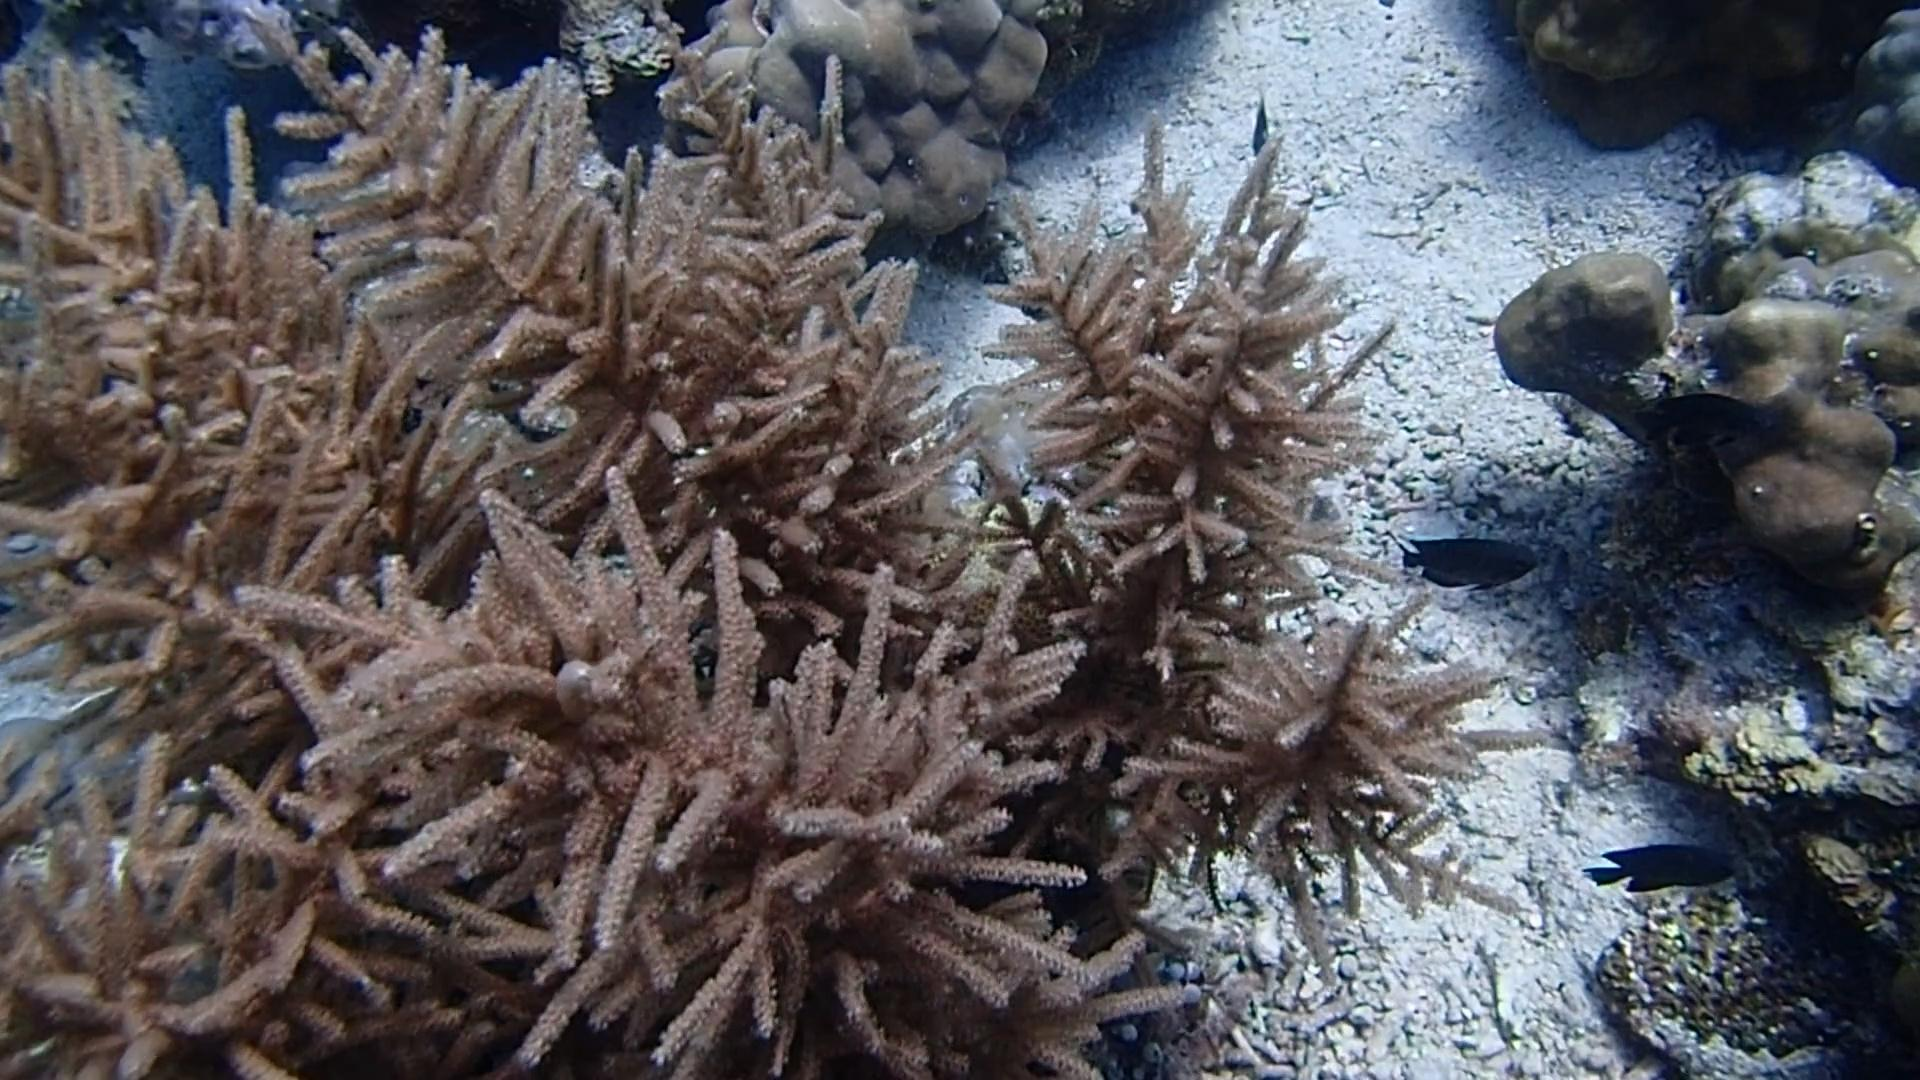Dark Fish: (1575, 836, 1745, 905), (1627, 384, 1779, 456), (1391, 530, 1542, 595)
Yellow Tail: (1237, 84, 1286, 161)
